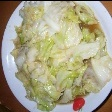juanxincairoupian: (11, 0, 111, 111)
